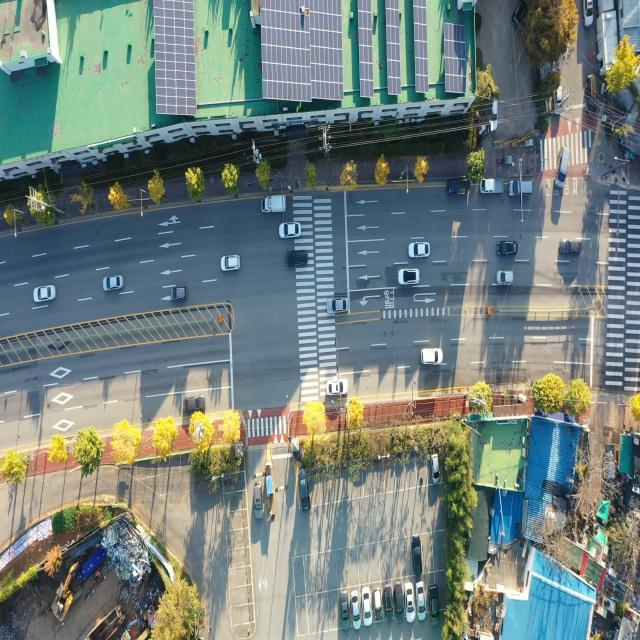car: (509, 178, 534, 199), (298, 465, 309, 506), (286, 251, 308, 268), (429, 584, 438, 625), (253, 482, 263, 518), (421, 348, 442, 365), (329, 299, 350, 316), (280, 222, 302, 238), (560, 240, 582, 256), (384, 585, 394, 620), (34, 285, 54, 302), (400, 269, 420, 286), (184, 396, 205, 412), (414, 537, 423, 573), (222, 256, 242, 272), (410, 242, 430, 258), (499, 241, 519, 257), (328, 381, 349, 396), (490, 97, 499, 131), (342, 590, 350, 628), (103, 276, 123, 291), (362, 588, 370, 624), (351, 591, 359, 627), (407, 585, 415, 621), (395, 584, 403, 620), (514, 1, 525, 27), (375, 586, 383, 620), (418, 584, 425, 620), (555, 86, 564, 114), (586, 0, 594, 28), (497, 271, 512, 285), (432, 455, 439, 484), (173, 286, 187, 300)
small_truck: (479, 175, 505, 198), (556, 148, 570, 188), (264, 196, 288, 215), (586, 76, 596, 118), (448, 179, 470, 196)
